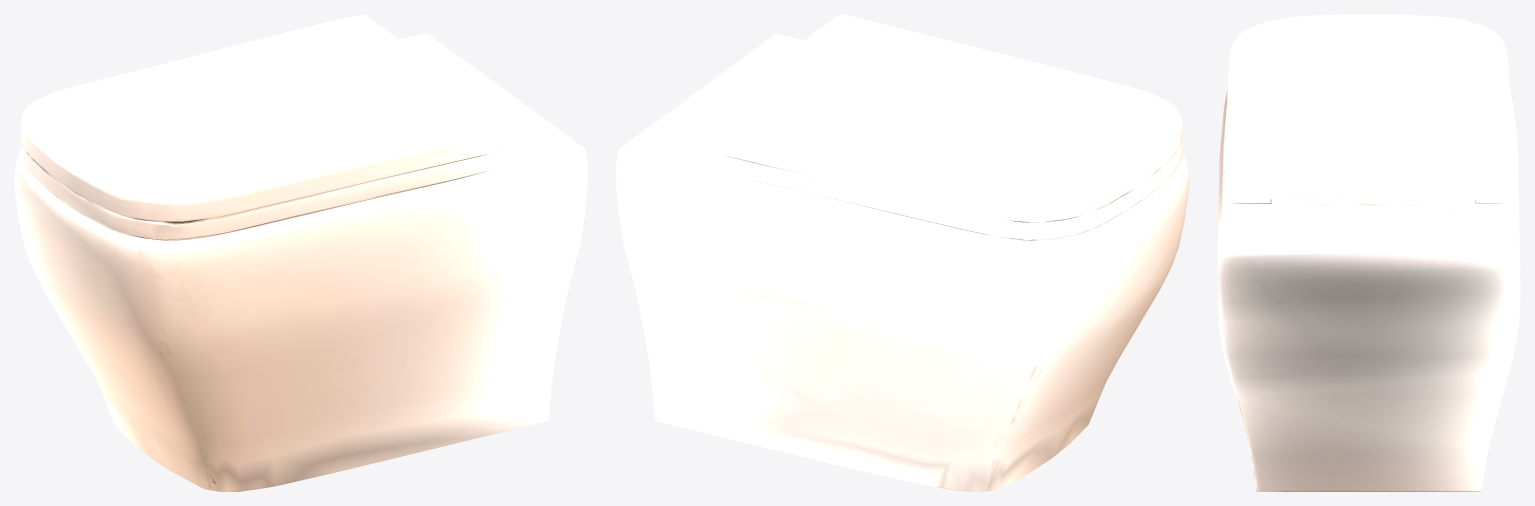
The model's file is Element_Plus_Matte_White.glb.
3 renders of one model, left to right at view 1: azimuth 30°, elevation 25°; view 2: azimuth 150°, elevation 25°; view 3: azimuth 270°, elevation 25°, orthographic. The views are drawn at different scales.
Visible parts, largest first — view 1: Element_Plus_Matte_White; view 2: Element_Plus_Matte_White; view 3: Element_Plus_Matte_White.
Boxes of the visible parts, x1=… form: Element_Plus_Matte_White: x1=14, y1=14, x2=587, y2=491; Element_Plus_Matte_White: x1=616, y1=14, x2=1188, y2=491; Element_Plus_Matte_White: x1=1217, y1=14, x2=1520, y2=491.
Size of the model in its own units: 0.5771 by 0.3865 by 0.3666.
Materials: 1 (1 with a texture image).
